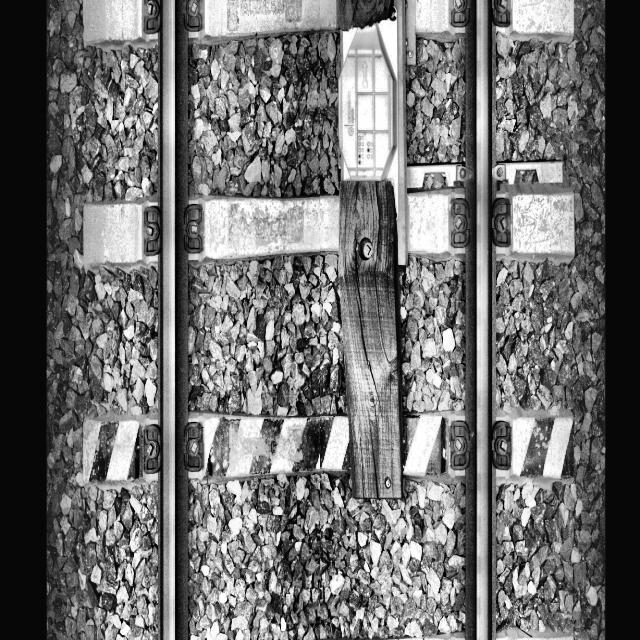Clips: (448, 197, 471, 249), (182, 422, 205, 473), (448, 418, 469, 471), (491, 198, 513, 248), (490, 420, 510, 472), (183, 203, 203, 254), (142, 206, 162, 256), (143, 424, 161, 475), (182, 0, 204, 32), (143, 0, 161, 34), (449, 0, 470, 28), (491, 0, 512, 25)
Sleepers: (77, 190, 572, 270), (84, 414, 575, 482), (83, 0, 574, 40)
